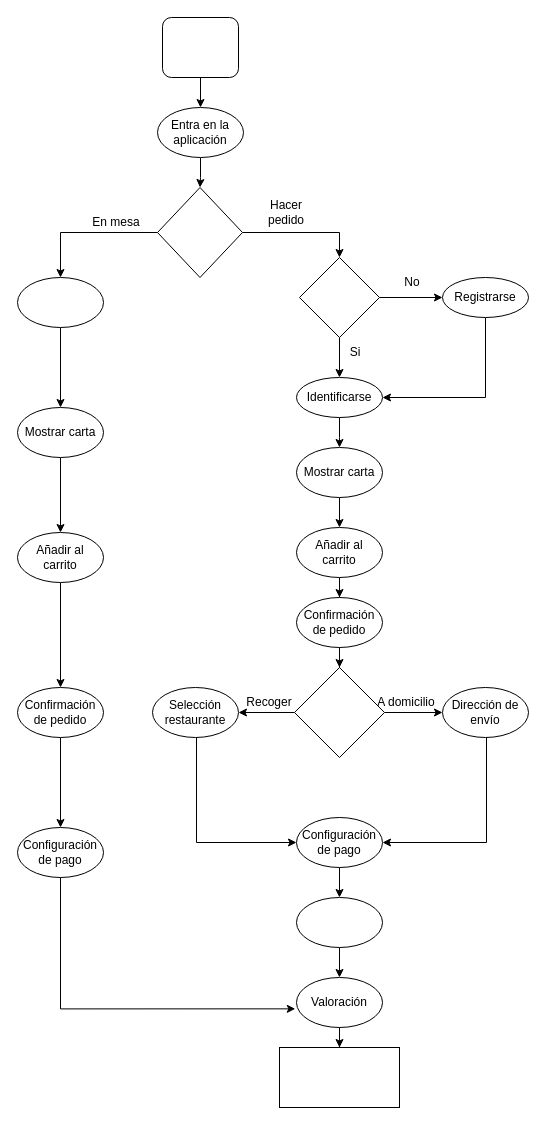
Some shapes in this 546 by 1125 pixel diagram are drawn without their labels. The shapes that lost their labels are listed below. From the top down, each one's centre as x and y in pixels, then its label:
At (200,47): "Cliente".
At (199,232): "Recoger, domicilio o en mesa".
At (60,302): "Leer QR".
At (339,297): "Tiene usuario?".
At (339,712): "Recoger o a domicilio".
At (339,922): "Seguimiento de pedido".
At (339,1077): "Fin de pedido".
